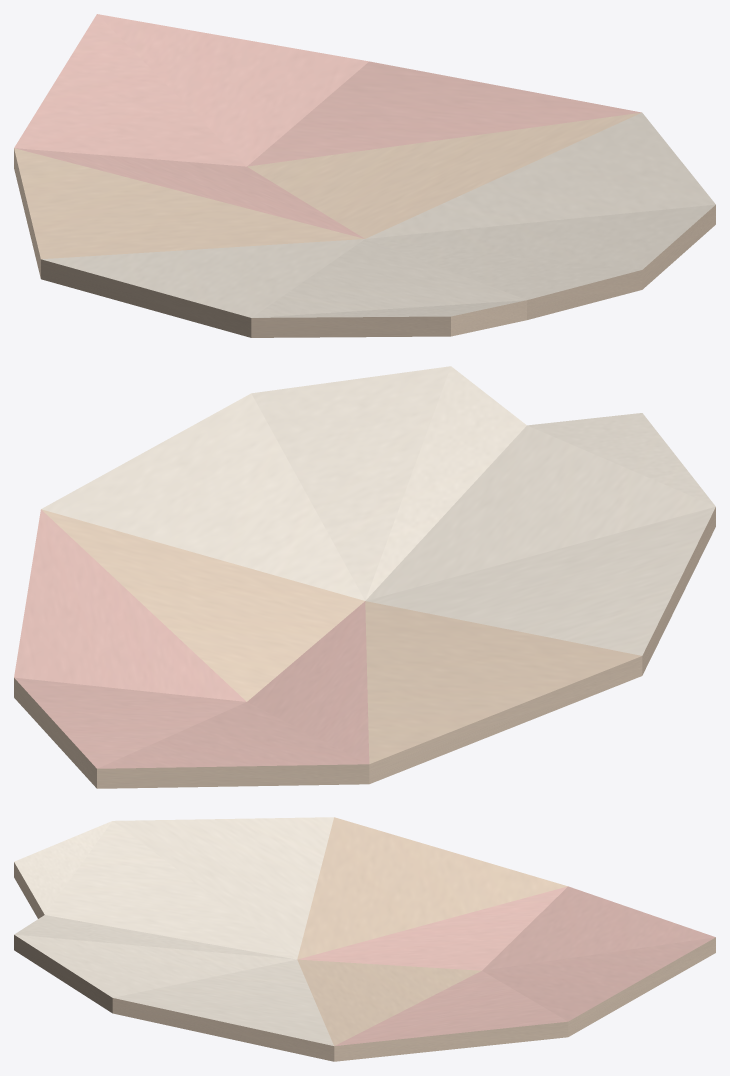
Rendered from 08_floating_petal_A.obj.
3 views of the same model, one above another, from view 1: azimuth 30°, elevation 25°; view 2: azimuth 150°, elevation 25°; view 3: azimuth 270°, elevation 25° (orthographic). The views are drawn at different scales.
Parts seen in each view (by area): view 1: Floating_Petal_A; view 2: Floating_Petal_A; view 3: Floating_Petal_A.
Part boxes in pixels (<box>): Floating_Petal_A: <box>14,14,715,337</box>; Floating_Petal_A: <box>14,366,715,788</box>; Floating_Petal_A: <box>14,817,715,1061</box>.
Size of the model in its own units: 0.088 by 0.0158 by 0.114.
1 material, 1 textured.
